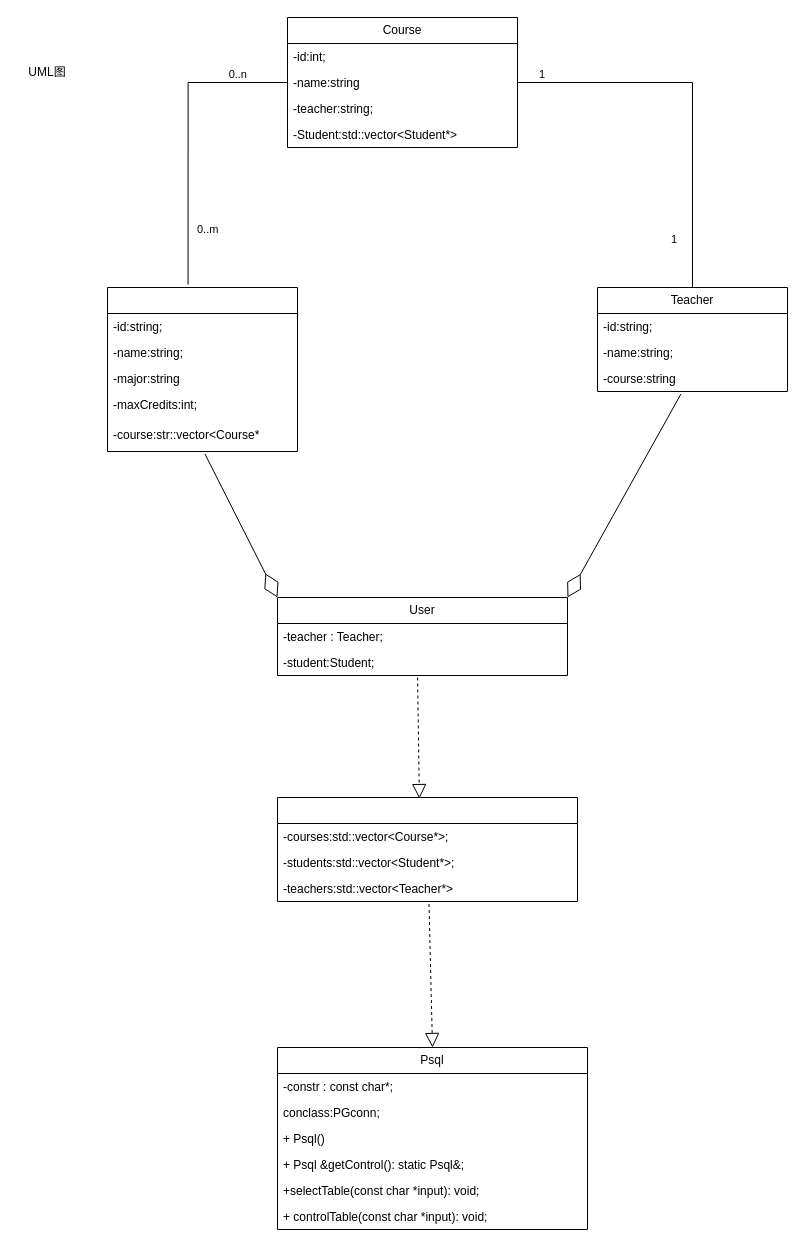
This 805x1250 diagram has some shape labels left out. The shapes that lost their labels are listed below. From the top down, each one's box as (x1, y1, x2, y2) in pixels, then its label:
(106, 286, 298, 452): Student
(276, 796, 578, 902): registrar
